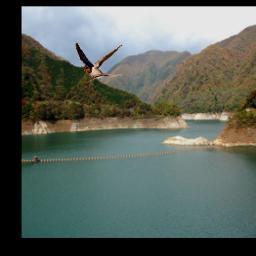Swallow: (75, 43, 122, 82)
